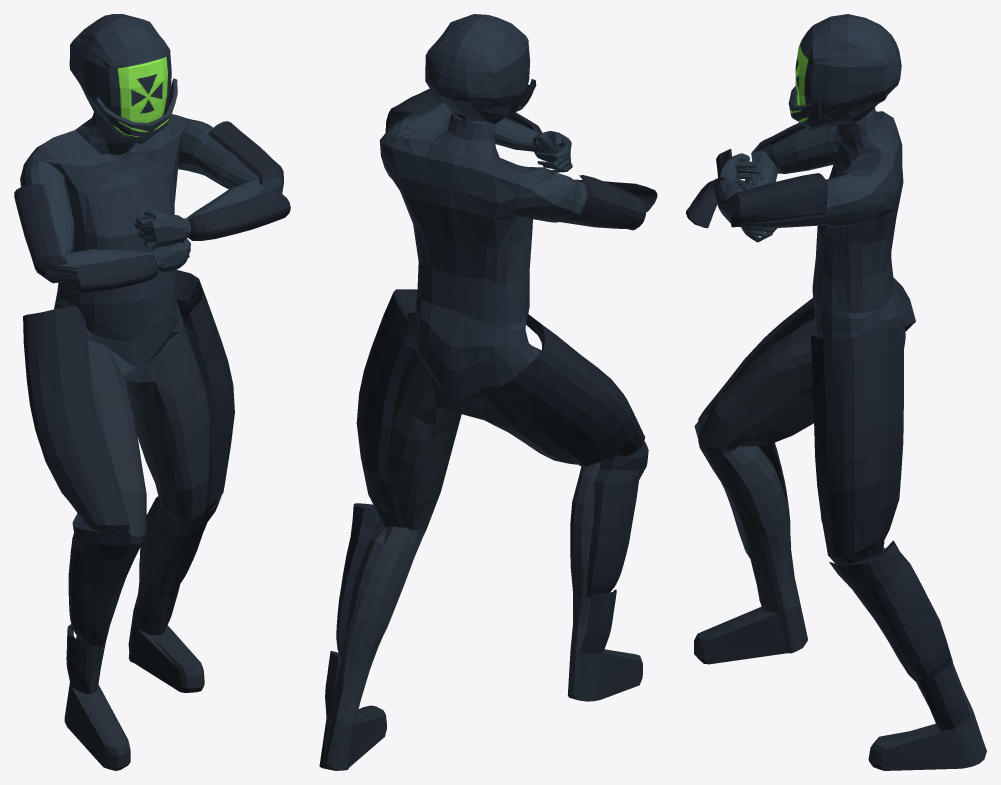
Rendered from Bastion_WB_000009.obj.
3 views of the same model, side by side, from view 1: azimuth 30°, elevation 25°; view 2: azimuth 150°, elevation 25°; view 3: azimuth 270°, elevation 25° (orthographic). The views are drawn at different scales.
Parts seen in each view (by area): view 1: Cube.002; view 2: Cube.002; view 3: Cube.002.
Boxes of the visible parts, x1,y1,x2,y2 form: Cube.002: [14, 14, 290, 770]; Cube.002: [319, 14, 657, 770]; Cube.002: [686, 14, 986, 770].
Bounding box in the file's own units: 1.32 × 3.73 × 1.44.
